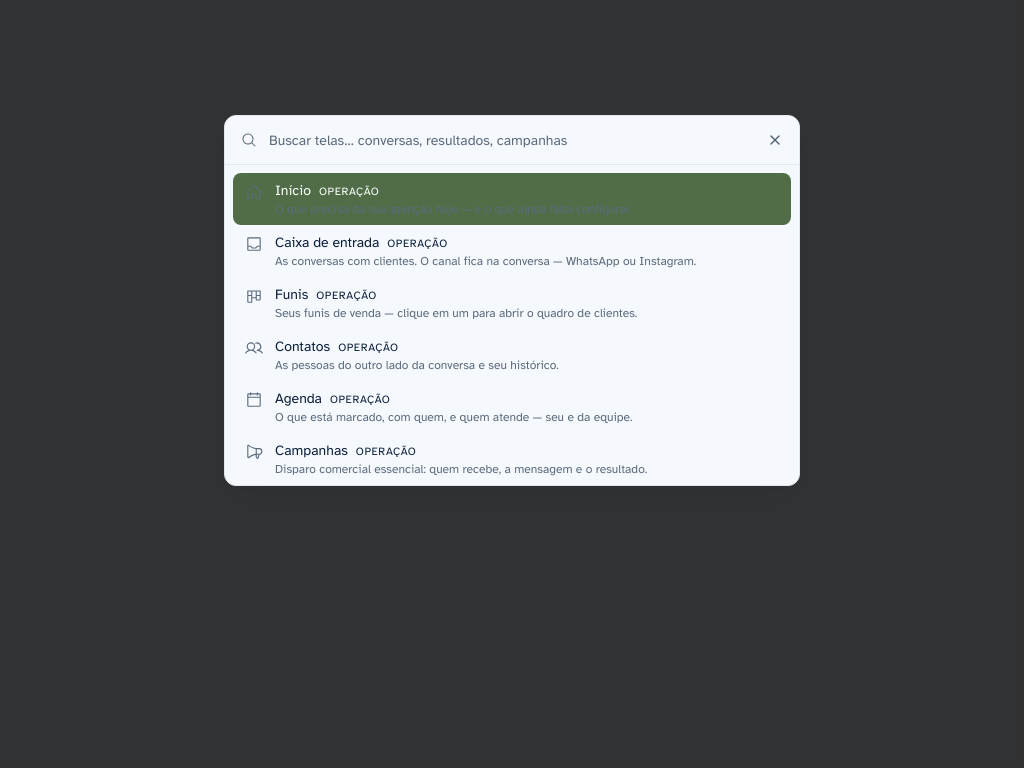
Test case: CommandPalette › ignora acento, porque ninguém digita acento com pressa
In the dropdown: (526, 140) [269,116,783,164], type "orcamento"
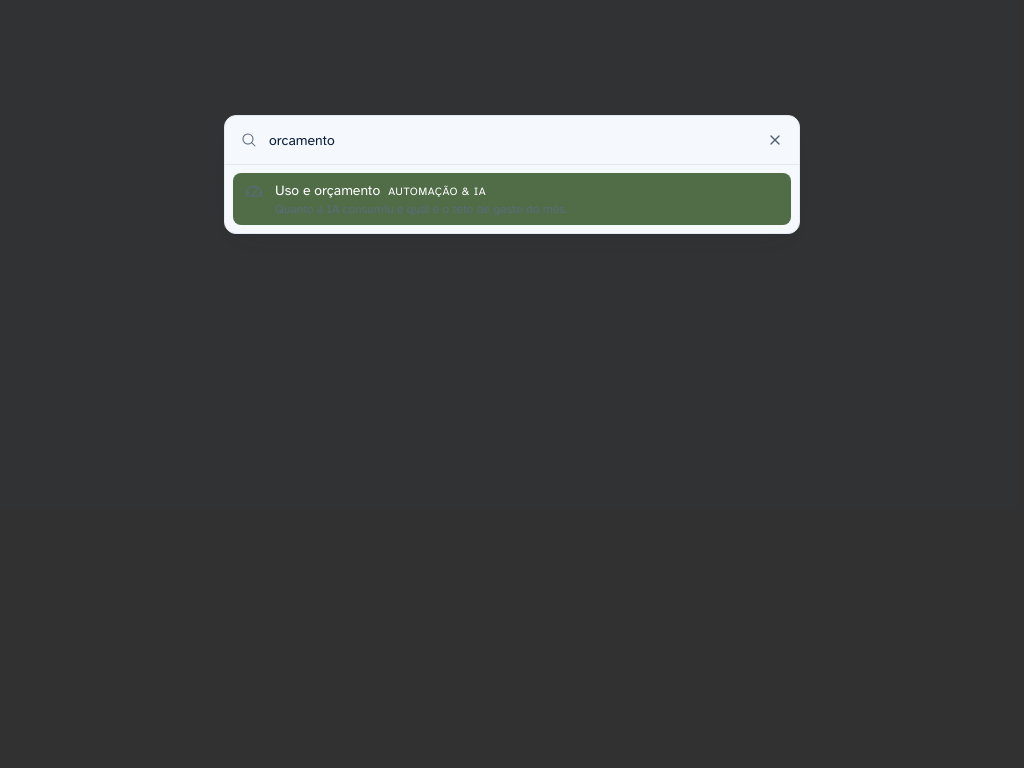
Expected: the option "Uso e orçamento" is shown, [233,173,791,225]
